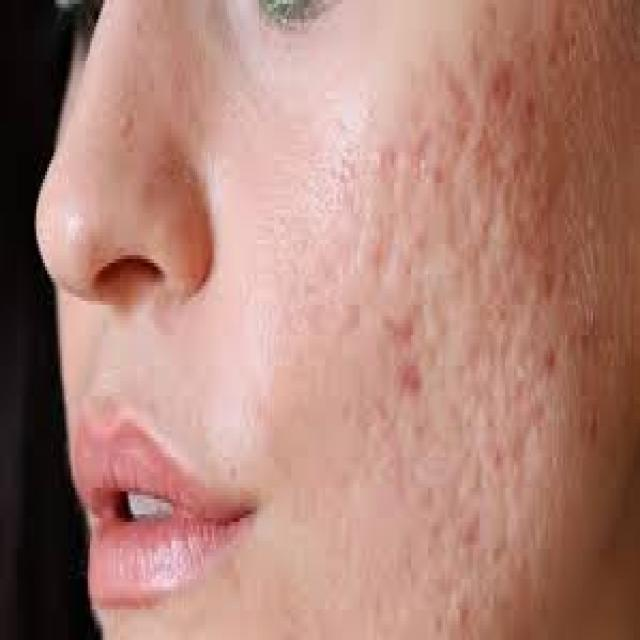Acne: (342, 93, 584, 489)
